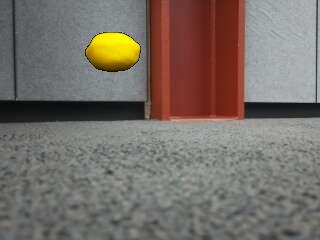lemon: (86, 34, 140, 72)
